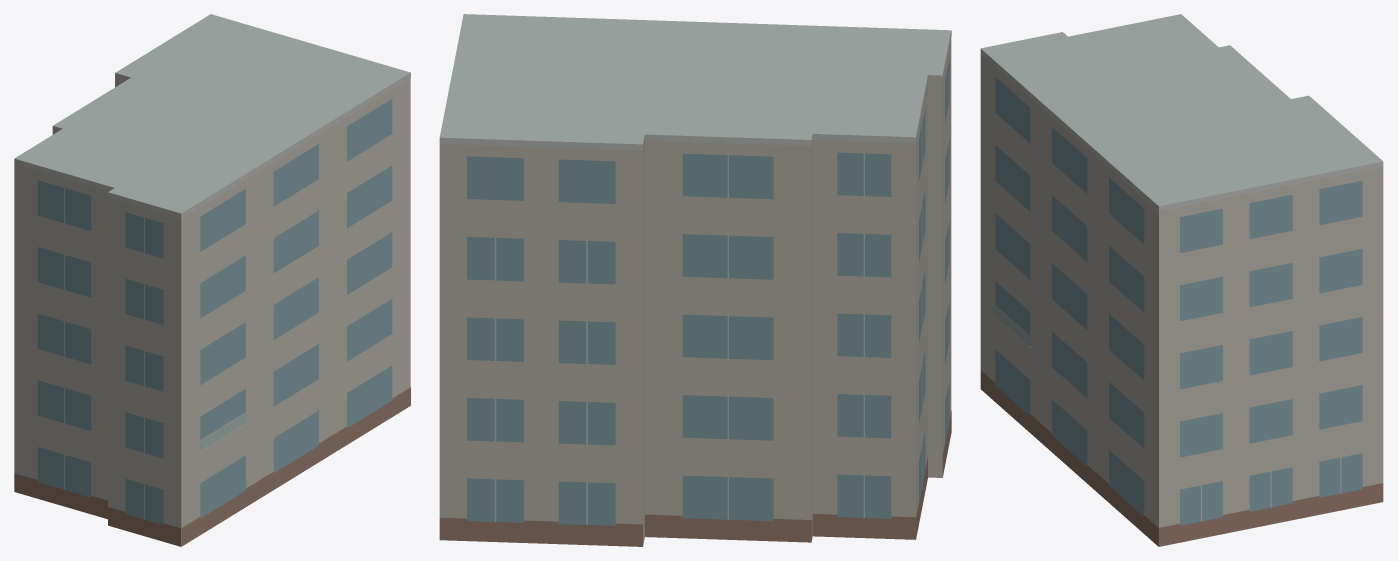
Rendered from survey-upis-32660599.glb.
3 renders of one model, left to right at view 1: azimuth 30°, elevation 25°; view 2: azimuth 150°, elevation 25°; view 3: azimuth 270°, elevation 25°, orthographic. The views are drawn at different scales.
Parts seen in each view (by area): view 1: survey-upis-32660599.tmp; view 2: survey-upis-32660599.tmp; view 3: survey-upis-32660599.tmp.
Boxes of the visible parts, bbox=[...] form: survey-upis-32660599.tmp: bbox=[14, 14, 410, 546]; survey-upis-32660599.tmp: bbox=[439, 14, 951, 546]; survey-upis-32660599.tmp: bbox=[980, 14, 1383, 546].
Size of the model in its own units: 18.65 by 15.4 by 16.51.
